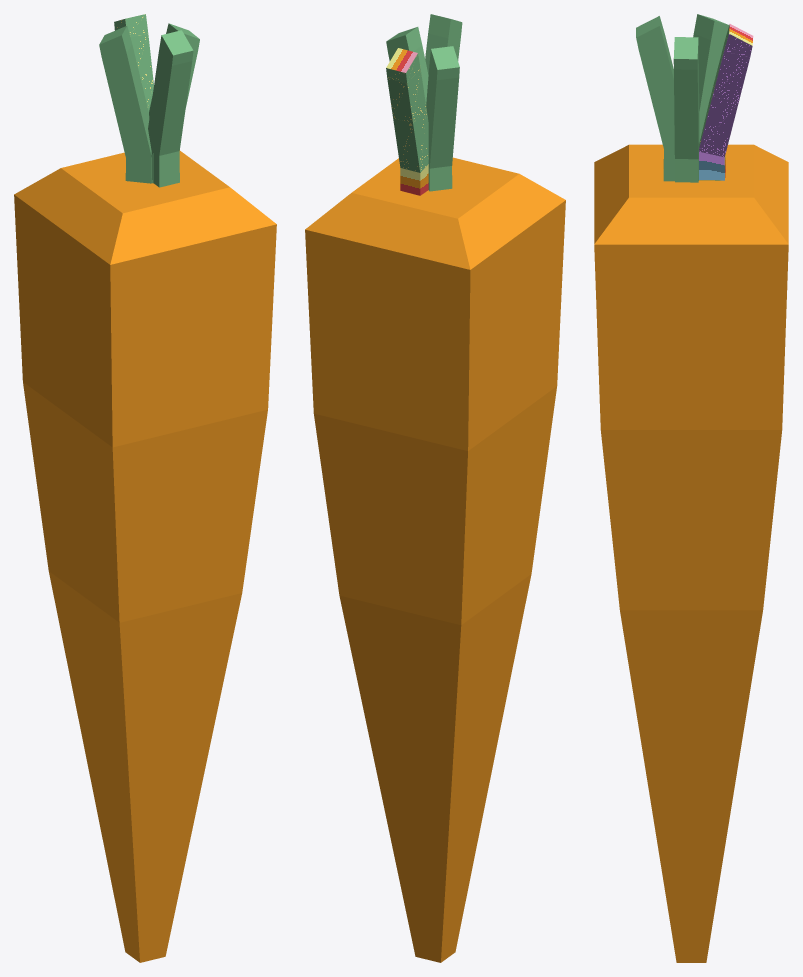
File: carrot.gltf
3 renders of one model, left to right at view 1: azimuth 30°, elevation 25°; view 2: azimuth 150°, elevation 25°; view 3: azimuth 270°, elevation 25°, orthographic.
Parts seen in each view (by area): view 1: Cube; view 2: Cube; view 3: Cube.
Boxes of the visible parts, x1=… form: Cube: x1=14, y1=14, x2=276, y2=962; Cube: x1=305, y1=14, x2=565, y2=962; Cube: x1=594, y1=14, x2=788, y2=962.
Size of the model in its own units: 2 by 10.67 by 2.
1 material, 1 textured.
